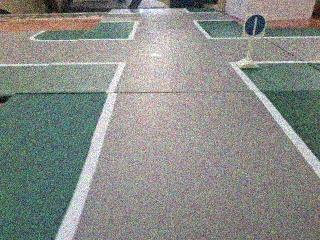straight: (243, 13, 267, 37)
